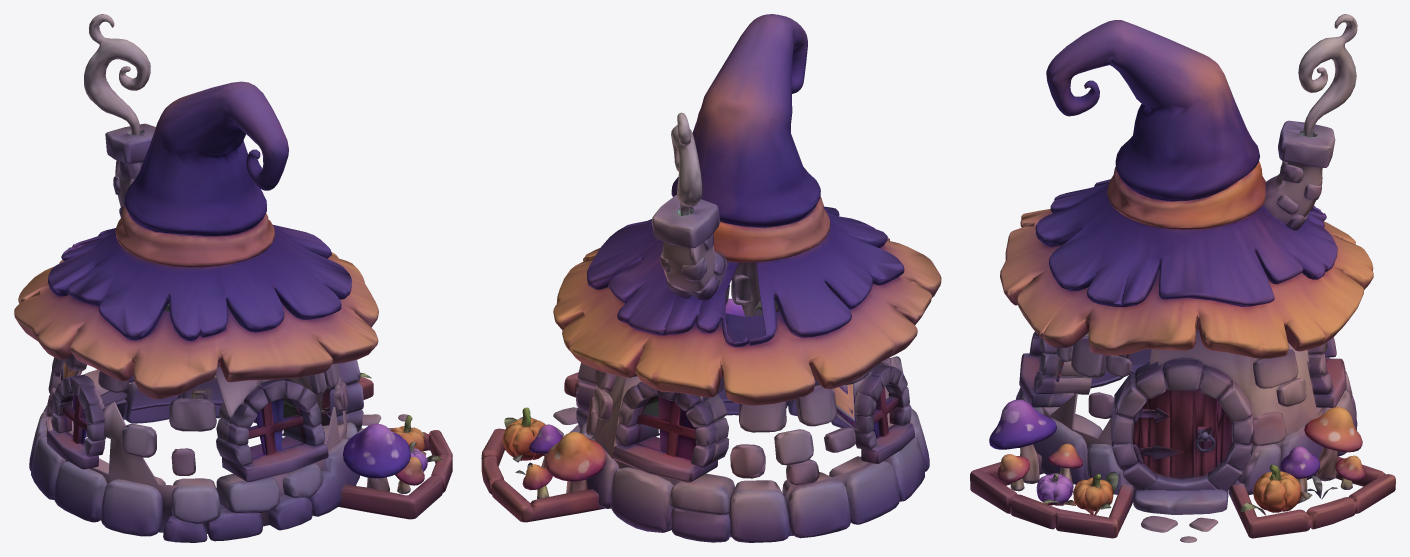
File: L4_WitchCottage_LOD0.fbx
3 views of the same model, side by side, from view 1: azimuth 30°, elevation 25°; view 2: azimuth 150°, elevation 25°; view 3: azimuth 270°, elevation 25° (orthographic). The views are drawn at different scales.
Parts seen in each view (by area): view 1: L4_WitchCottage_LOD0; view 2: L4_WitchCottage_LOD0; view 3: L4_WitchCottage_LOD0.
Boxes of the visible parts, box(x1,y1,x2,y2) form: L4_WitchCottage_LOD0: box(14, 14, 452, 542); L4_WitchCottage_LOD0: box(481, 14, 941, 542); L4_WitchCottage_LOD0: box(970, 14, 1395, 542).
Bounding box in the file's own units: 5.7 × 6 × 5.52.
Materials: 1 (1 with a texture image).
